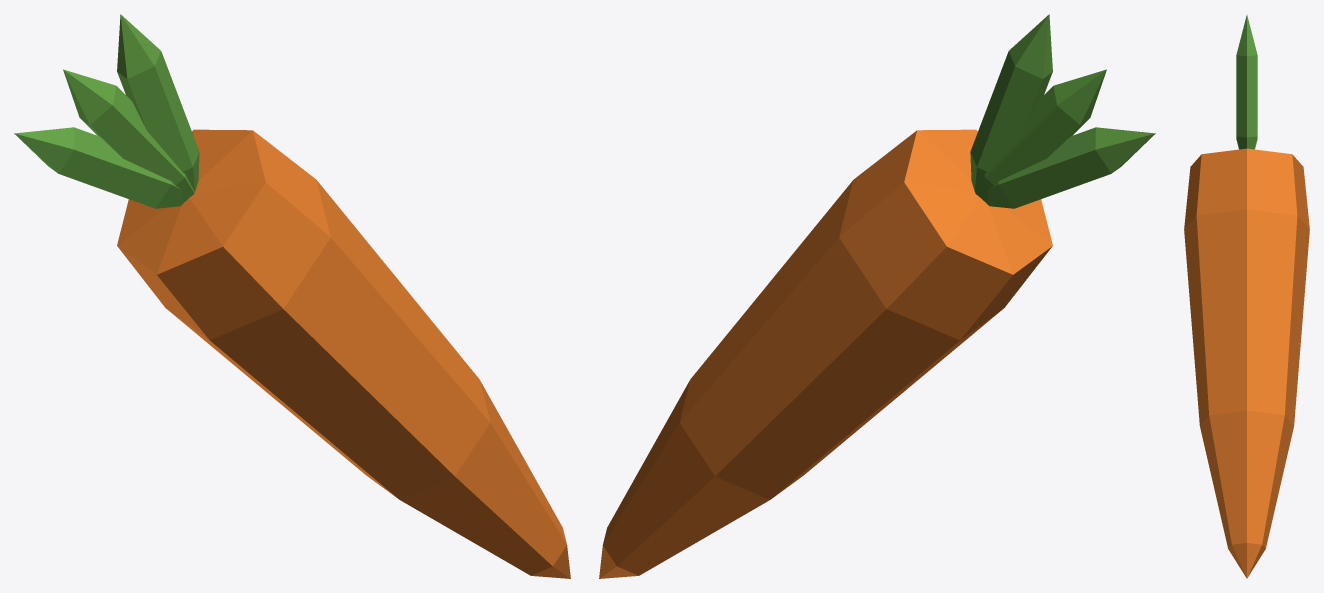
Rendered from Food_Carrot.obj.
The picture shows the model from 3 angles, left to right: view 1: azimuth 30°, elevation 25°; view 2: azimuth 150°, elevation 25°; view 3: azimuth 270°, elevation 25°; orthographic projection. The views are drawn at different scales.
Bounding box in the file's own units: 1.89 × 2.19 × 0.585.
